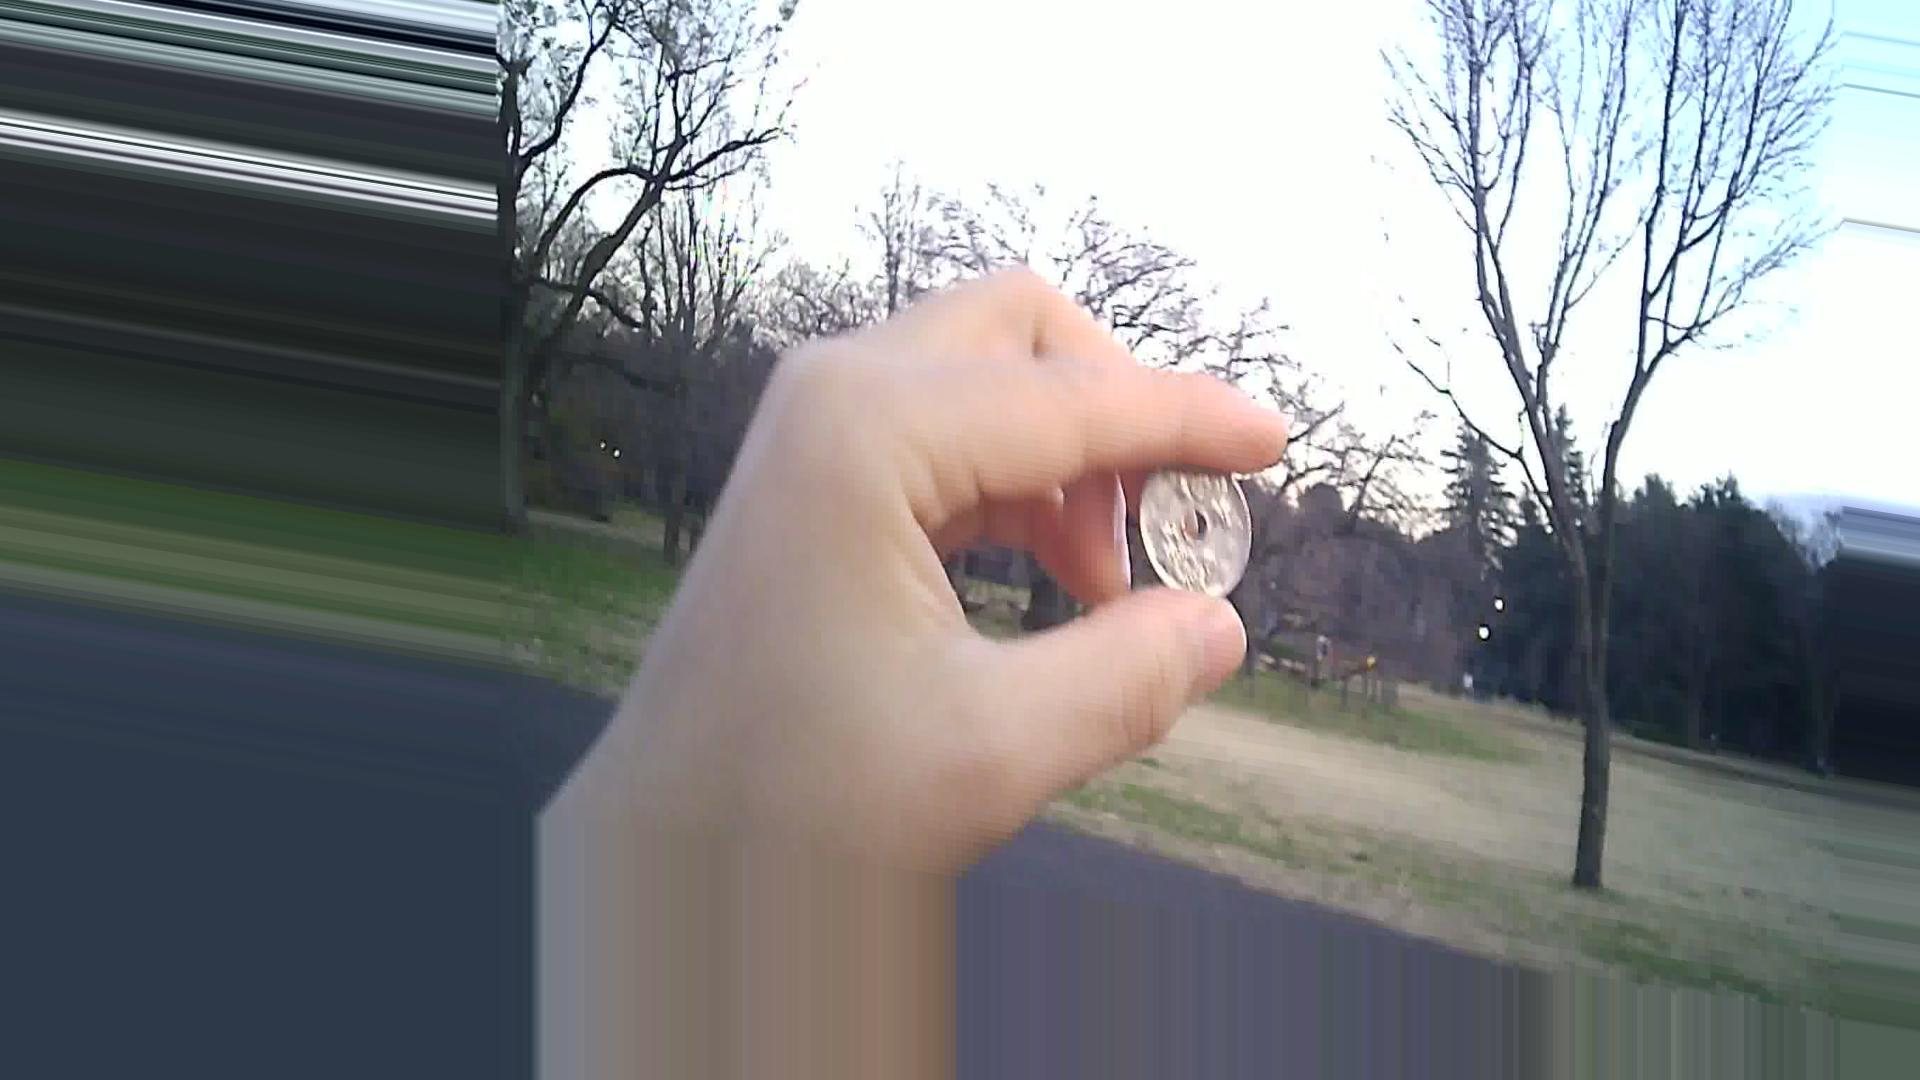50 Yen: (1138, 451, 1254, 597)
